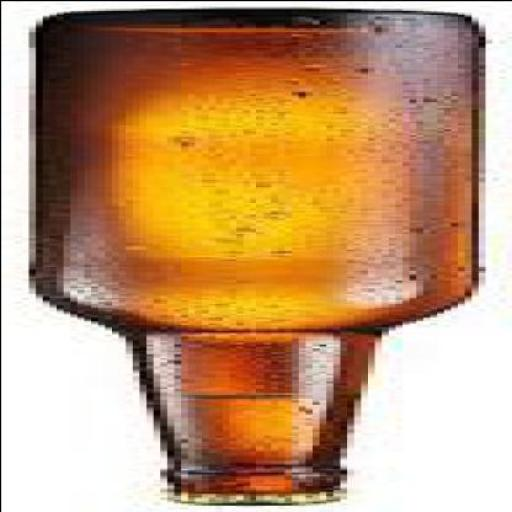glass: (35, 8, 491, 497)
metal: (173, 491, 353, 508)
